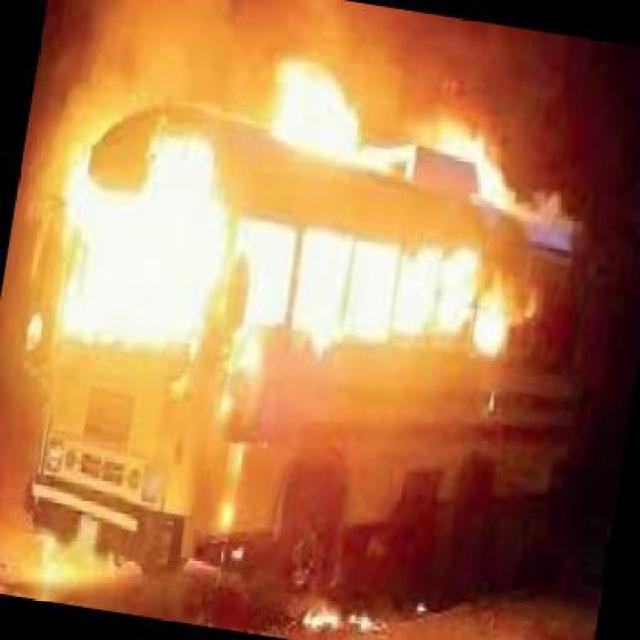Fire: (63, 133, 237, 356), (255, 228, 527, 350), (268, 59, 512, 179)
Smoke: (61, 0, 270, 119), (346, 17, 530, 91)
